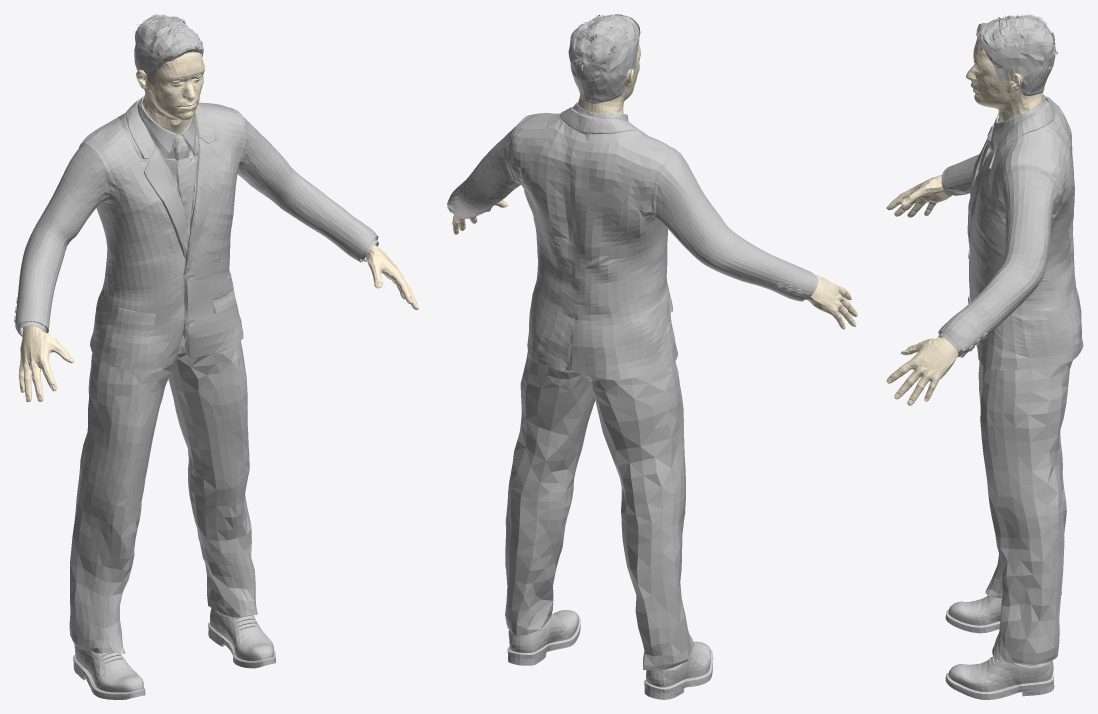
File: maleWhiteCasual.obj
3 views of the same model, side by side, from view 1: azimuth 30°, elevation 25°; view 2: azimuth 150°, elevation 25°; view 3: azimuth 270°, elevation 25° (orthographic).
Visible parts, largest first — view 1: male_elegantsuit01.obj, base.obj, shoes03.obj, short01.obj; view 2: male_elegantsuit01.obj, short01.obj, shoes03.obj, base.obj; view 3: male_elegantsuit01.obj, base.obj, shoes03.obj, short01.obj.
Boxes of the visible parts, box(x1,y1,x2,y2) form: male_elegantsuit01.obj: box(14, 96, 378, 653); base.obj: box(18, 52, 418, 402); shoes03.obj: box(73, 608, 275, 699); short01.obj: box(134, 14, 203, 90); male_elegantsuit01.obj: box(447, 102, 818, 670); short01.obj: box(568, 14, 640, 103); shoes03.obj: box(507, 610, 713, 699); base.obj: box(452, 44, 857, 329); male_elegantsuit01.obj: box(938, 94, 1083, 664); base.obj: box(886, 38, 1042, 405); shoes03.obj: box(945, 596, 1054, 699); short01.obj: box(976, 14, 1057, 95).
Size of the model in its own units: 1.14 by 1.79 by 0.4998.
